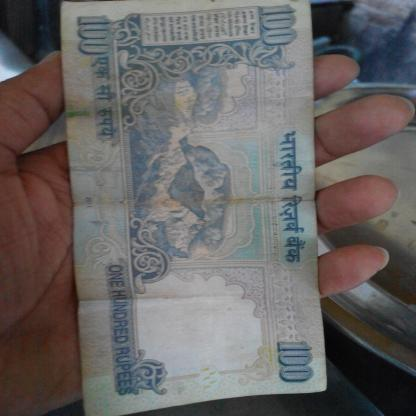Old100Back: (57, 0, 330, 416)
